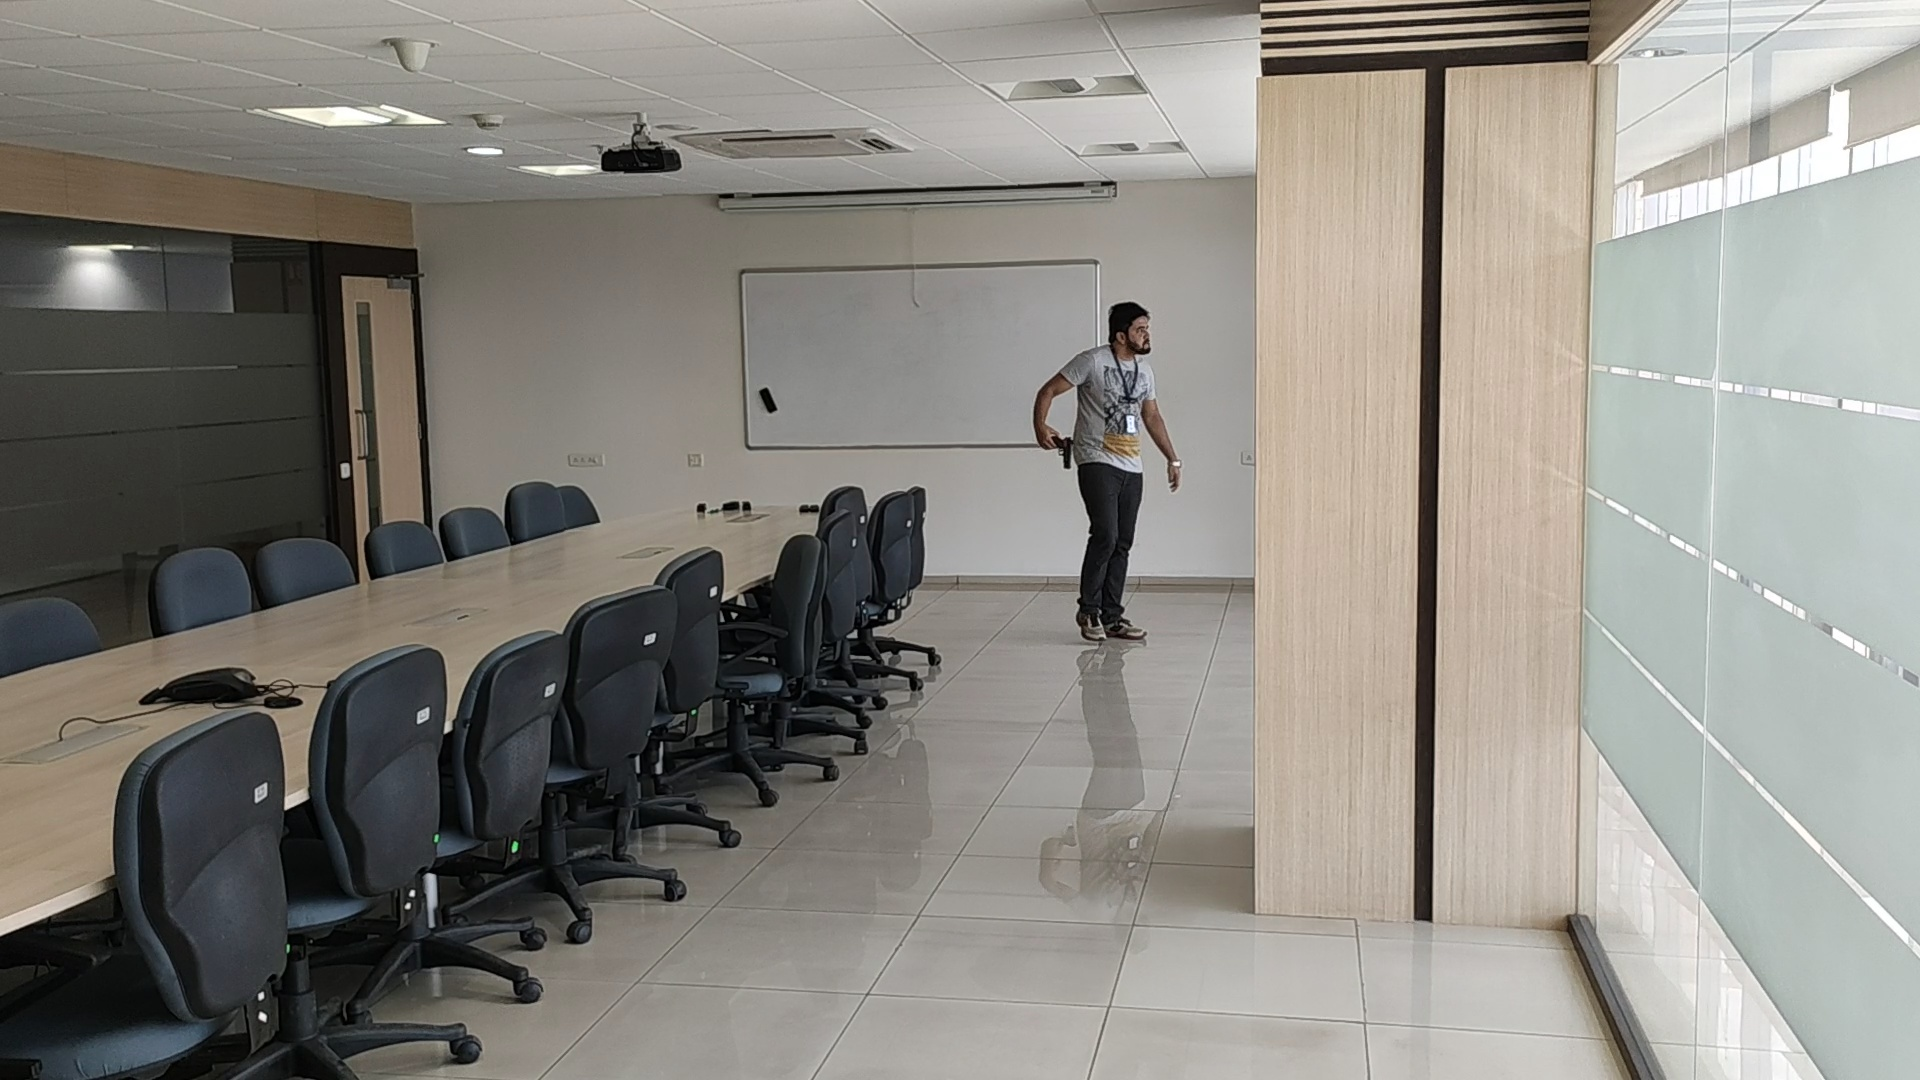gun: (1055, 436, 1073, 469)
